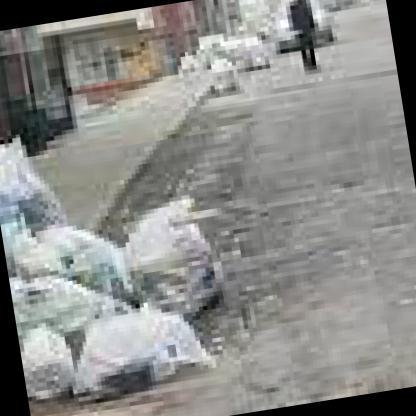Garbage: (67, 304, 227, 402), (108, 202, 232, 326), (12, 201, 132, 304), (8, 262, 122, 348), (16, 316, 96, 415), (0, 124, 62, 249), (206, 61, 240, 94), (180, 56, 212, 81)
